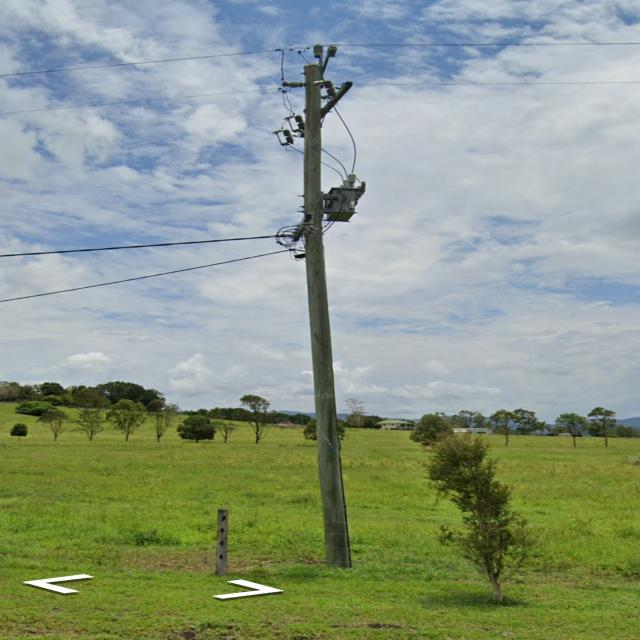HV-transmission: (272, 43, 354, 146)
crossarm: (320, 82, 354, 119), (320, 55, 329, 80)
timber-pole: (303, 62, 354, 570)
transformer: (322, 175, 367, 223)
